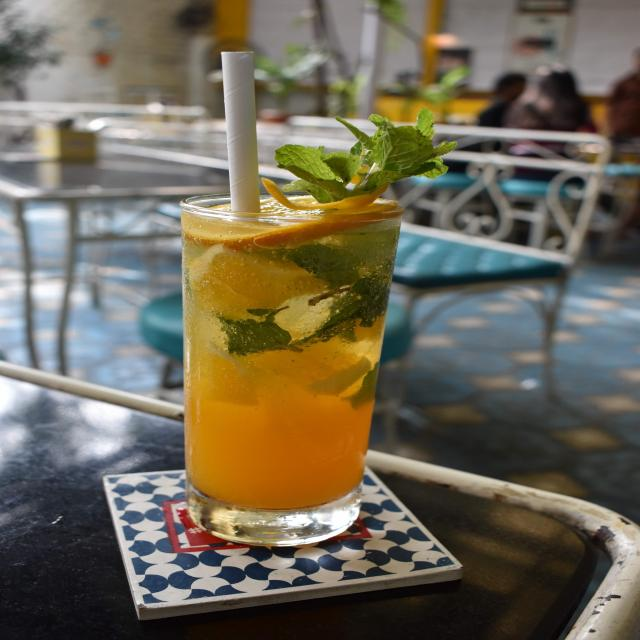glass-normal: (176, 186, 406, 547)
